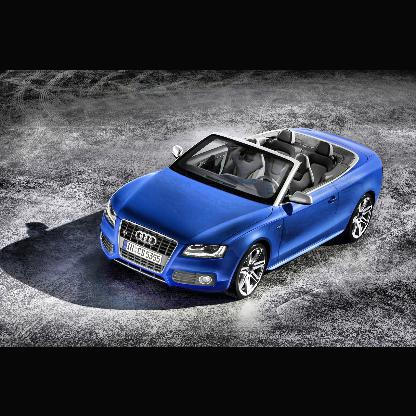Audi RS 4 Convertible 2008: (99, 128, 386, 301)
